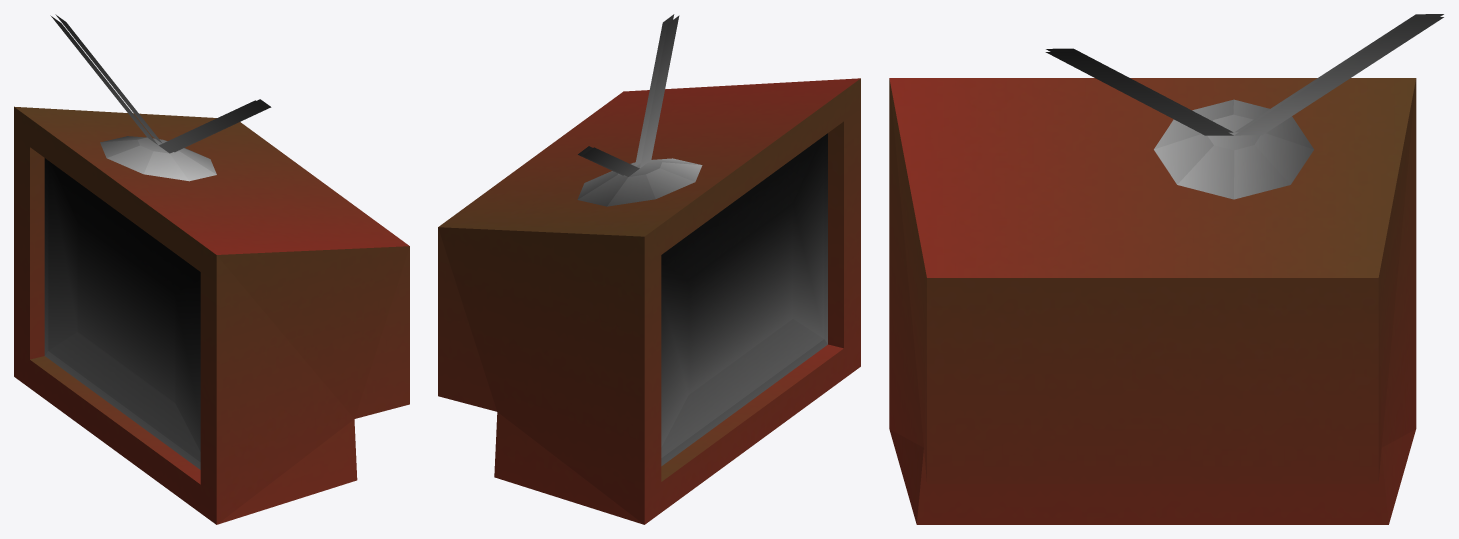
3 views of the same model, side by side, from view 1: azimuth 30°, elevation 25°; view 2: azimuth 150°, elevation 25°; view 3: azimuth 270°, elevation 25° (orthographic). The views are drawn at different scales.
Visible parts, largest first — view 1: tv, tv_antenna; view 2: tv, tv_antenna; view 3: tv, tv_antenna.
Part boxes in pixels (box(x1,y1,x2,y2)): tv: box(14, 106, 409, 524); tv_antenna: box(50, 14, 271, 181); tv: box(438, 78, 860, 524); tv_antenna: box(577, 14, 702, 206); tv: box(889, 78, 1416, 524); tv_antenna: box(1045, 14, 1443, 199).
Bounding box in the file's own units: 0.5596 × 0.8903 × 0.9955.
Materials: 1 (1 with a texture image).
